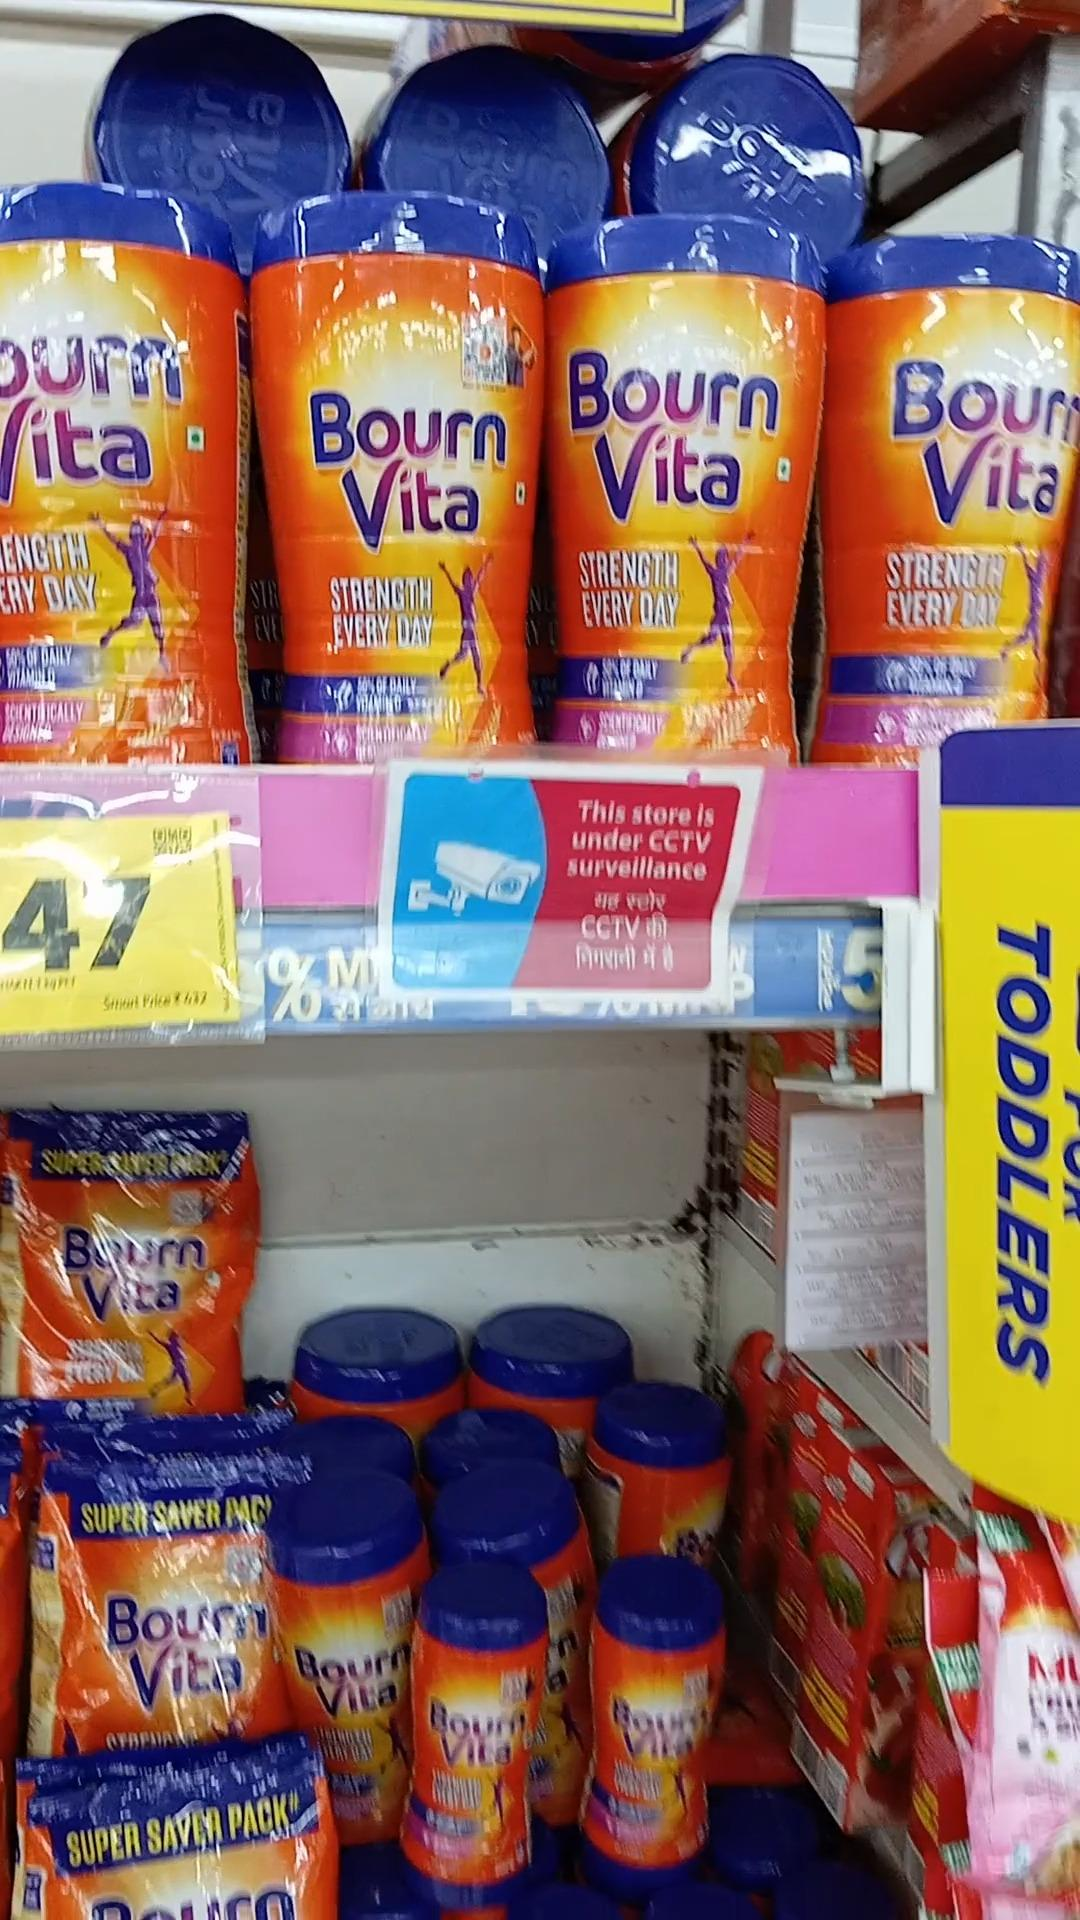BOURN_VITA_1_KG_JAR: (258, 183, 530, 757), (0, 179, 247, 756), (543, 210, 799, 762), (822, 224, 1072, 716)
BOURN_VITA_1_KG_POUCH: (9, 1097, 245, 1403), (46, 1458, 287, 1745)
BOURN_VITA_500_G_JAR: (580, 1555, 719, 1883), (406, 1569, 533, 1902)
